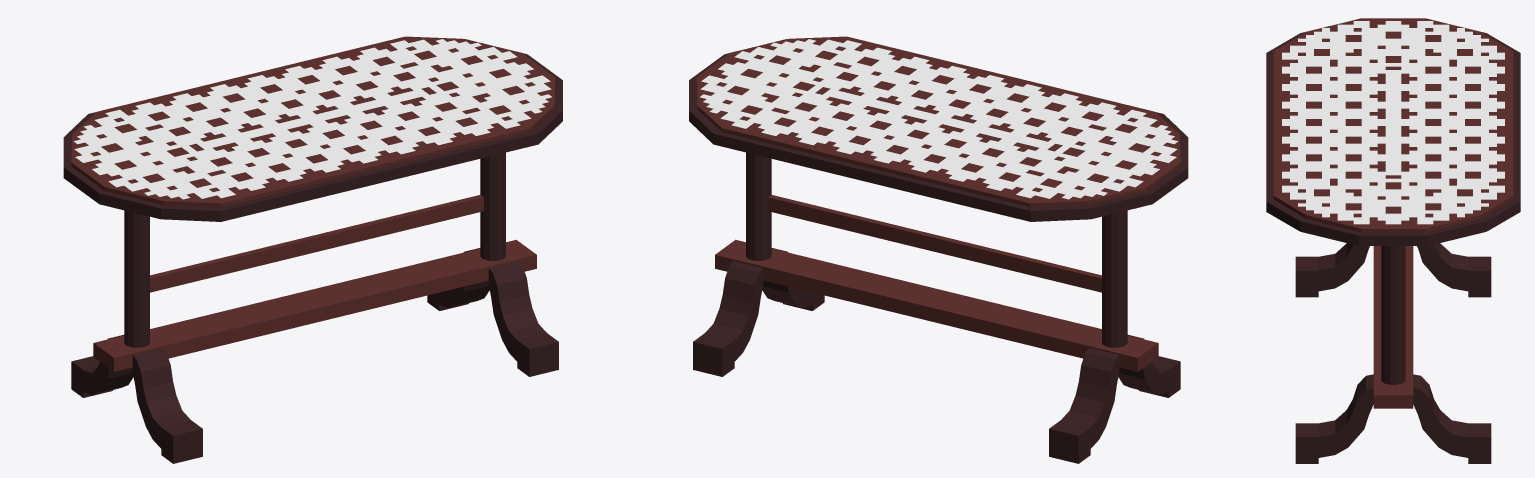
The model's file is old_large_table.gltf.
3 renders of one model, left to right at view 1: azimuth 30°, elevation 25°; view 2: azimuth 150°, elevation 25°; view 3: azimuth 270°, elevation 25°, orthographic. The views are drawn at different scales.
Visible parts, largest first — view 1: cube, plane; view 2: cube, plane; view 3: cube, plane.
Boxes of the visible parts, x1,y1,x2,y2 form: cube: (63,36,562,463); plane: (74,39,551,199); cube: (689,36,1188,463); plane: (700,39,1177,199); cube: (1266,18,1520,463); plane: (1282,21,1504,224).
Size of the model in its own units: 1.96 by 1.05 by 0.9688.
1 material, 1 textured.
